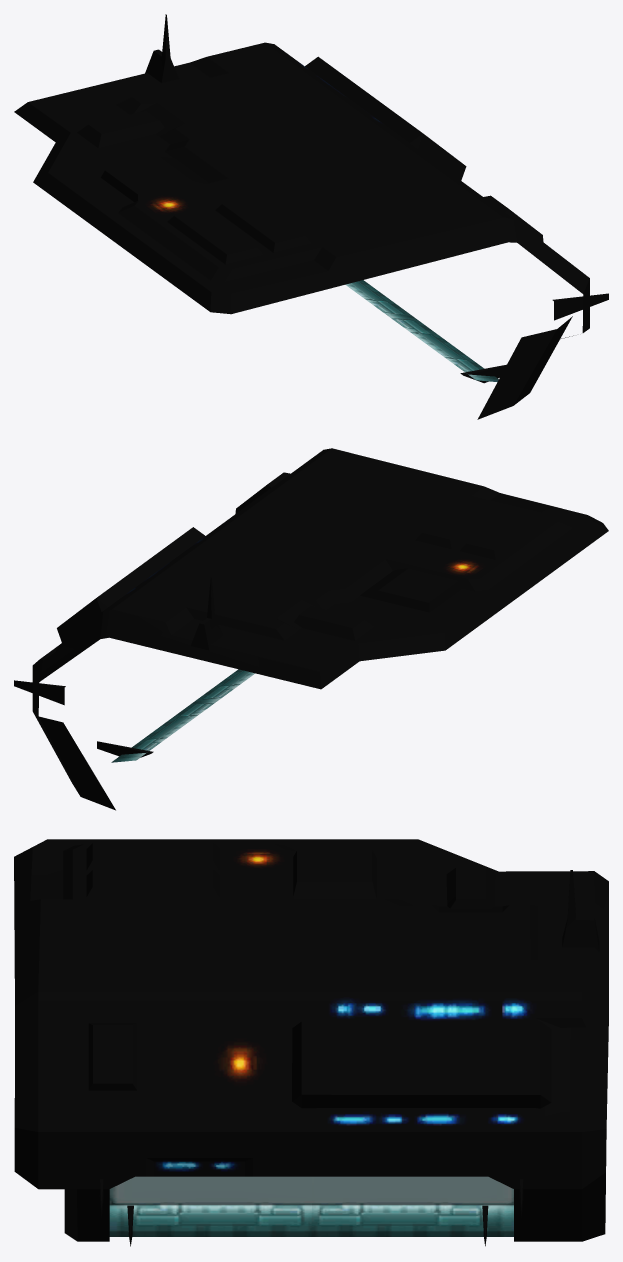
The model's file is hangar_hgn_carrier_02_enhanced_01_left.glb.
3 renders of one model, top to bottom at view 1: azimuth 30°, elevation 25°; view 2: azimuth 150°, elevation 25°; view 3: azimuth 270°, elevation 25°, orthographic. The views are drawn at different scales.
Visible parts, largest first — view 1: hgn_flagship_carrier_t1_hangar_m_left_LOD0; view 2: hgn_flagship_carrier_t1_hangar_m_left_LOD0; view 3: hgn_flagship_carrier_t1_hangar_m_left_LOD0.
Part boxes in pixels (box(x1,y1,x2,y2)): hgn_flagship_carrier_t1_hangar_m_left_LOD0: box(14, 14, 608, 419); hgn_flagship_carrier_t1_hangar_m_left_LOD0: box(14, 448, 608, 810); hgn_flagship_carrier_t1_hangar_m_left_LOD0: box(14, 839, 608, 1246).
Bounding box in the file's own units: 2.09 × 1.23 × 2.21.
Materials: 1 (1 with a texture image).
